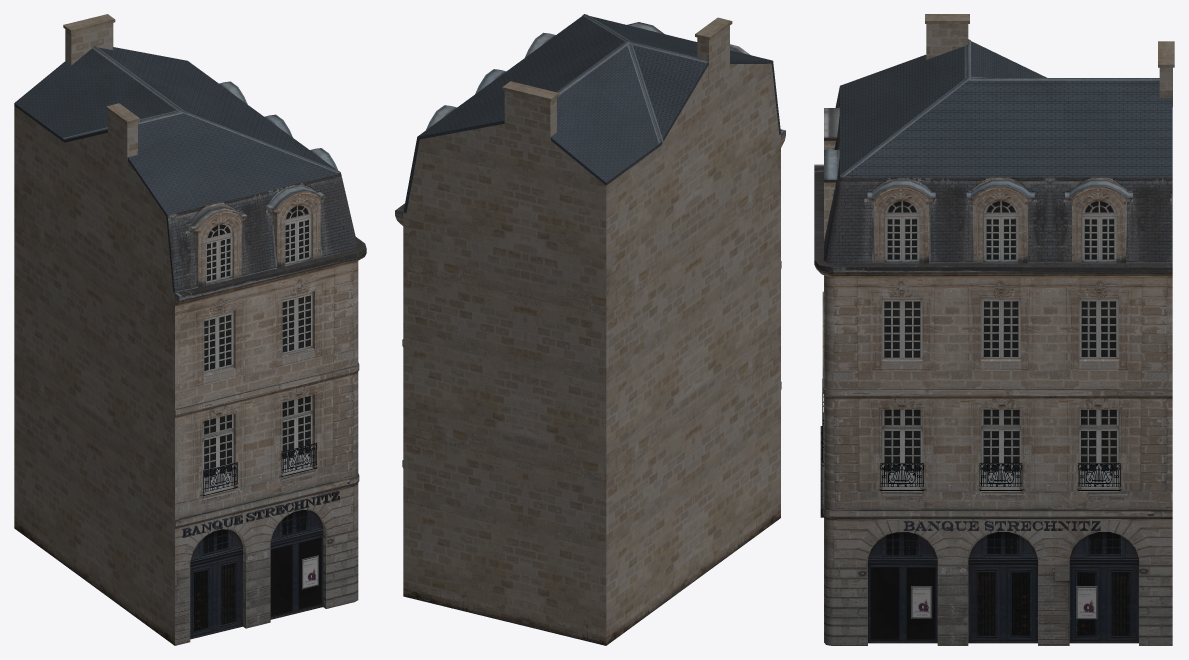
File: house4.glb
The picture shows the model from 3 angles, left to right: view 1: azimuth 30°, elevation 25°; view 2: azimuth 150°, elevation 25°; view 3: azimuth 270°, elevation 25°; orthographic projection. The views are drawn at different scales.
Parts seen in each view (by area): view 1: Strechnitz; view 2: Strechnitz; view 3: Strechnitz.
Boxes of the visible parts, box(x1,y1,x2,y2) form: Strechnitz: box(14, 14, 366, 645); Strechnitz: box(395, 14, 785, 645); Strechnitz: box(814, 14, 1174, 645).
Bounding box in the file's own units: 7.72 × 18.38 × 11.27.
Materials: 1 (1 with a texture image).
